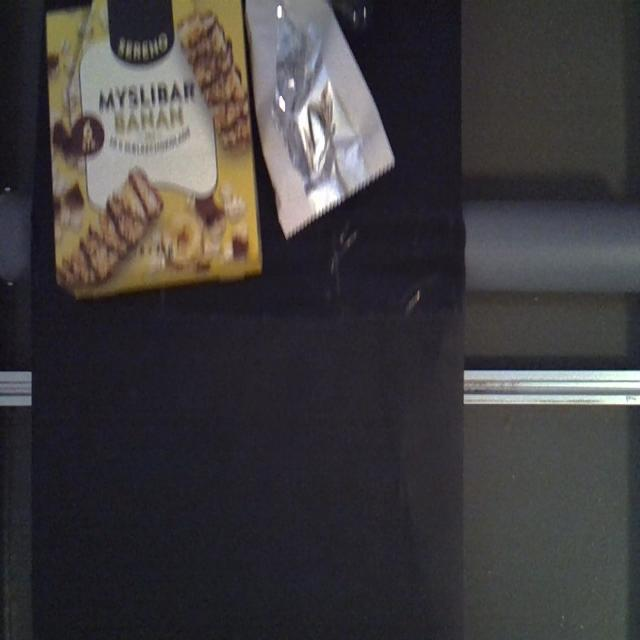carton: (43, 3, 267, 303)
packaging-soft-plastic: (244, 1, 396, 239)
